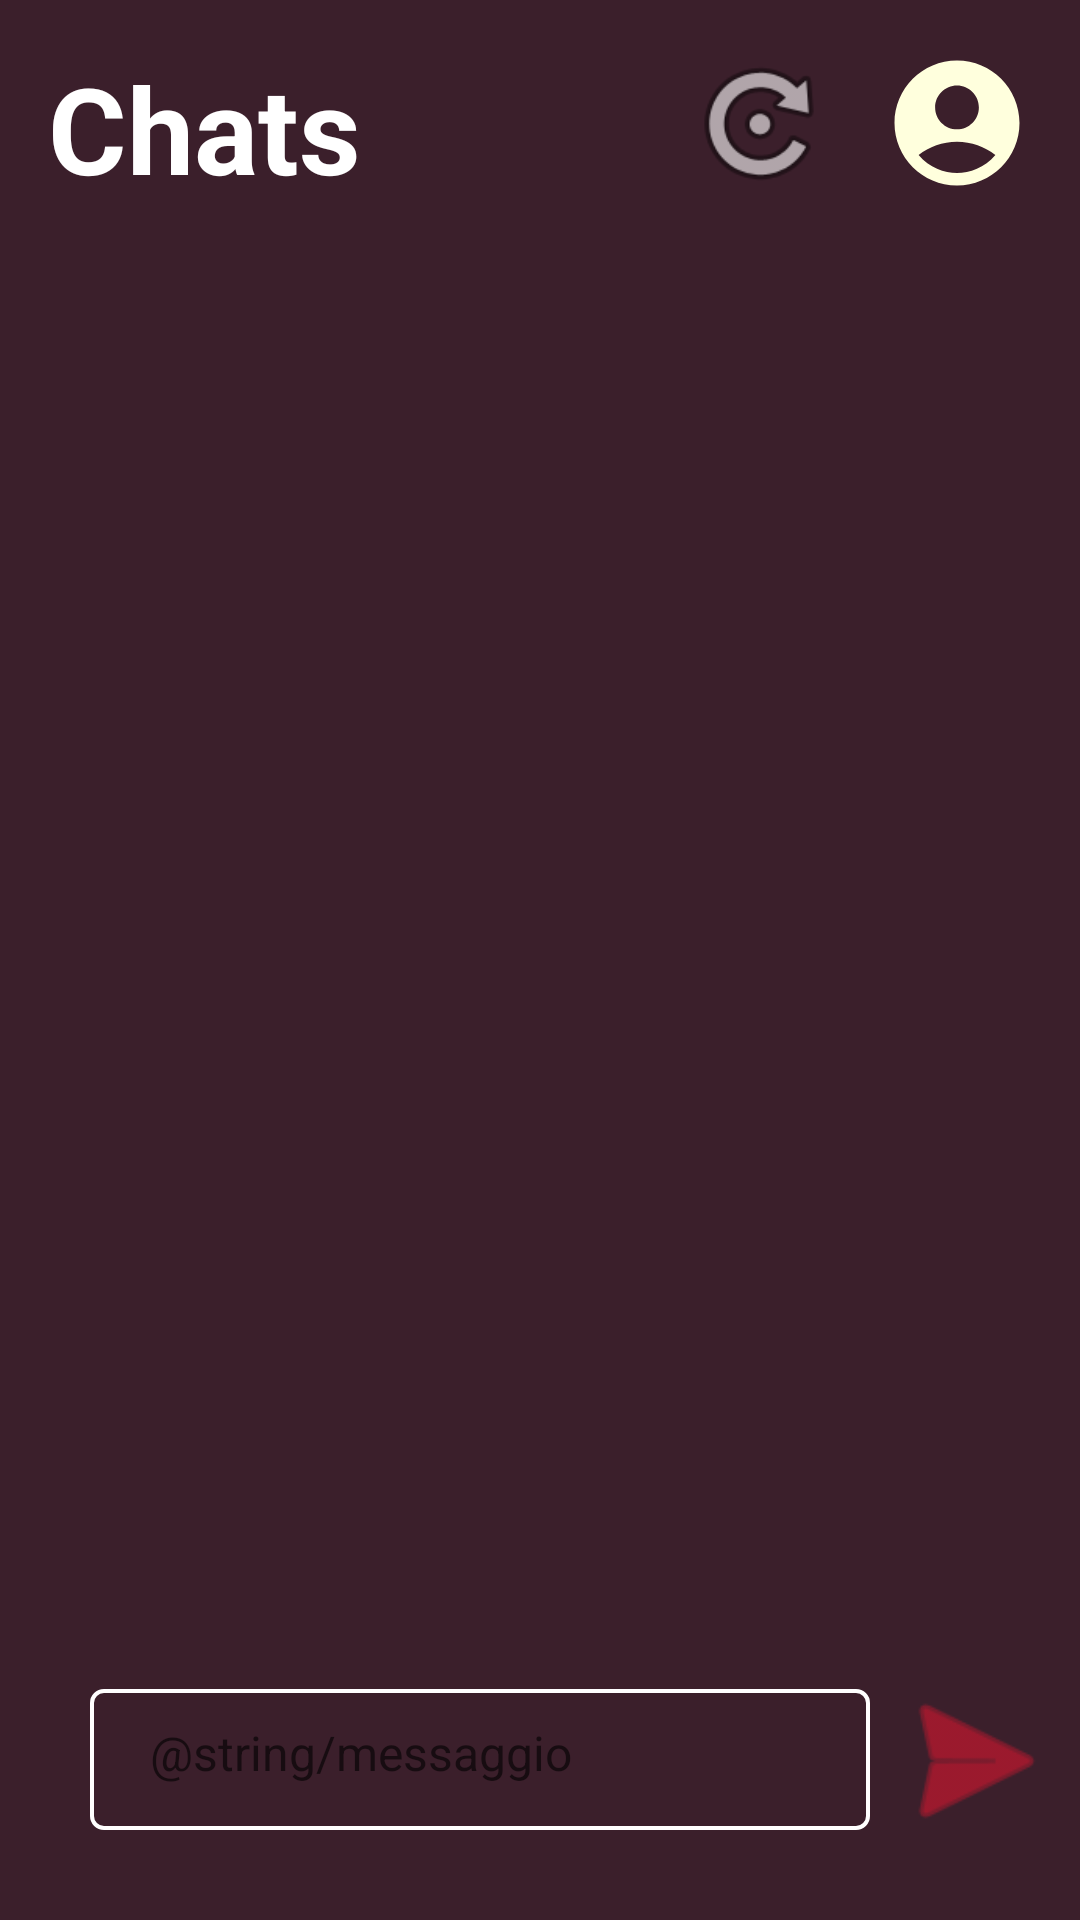

Where icons sit on this 1080*1920 app screen, as (x1,y1,x2,y2):
account circle: (894,60,1020,186)
rotate: (707,70,811,178)
send: (919,1704,1034,1818)
